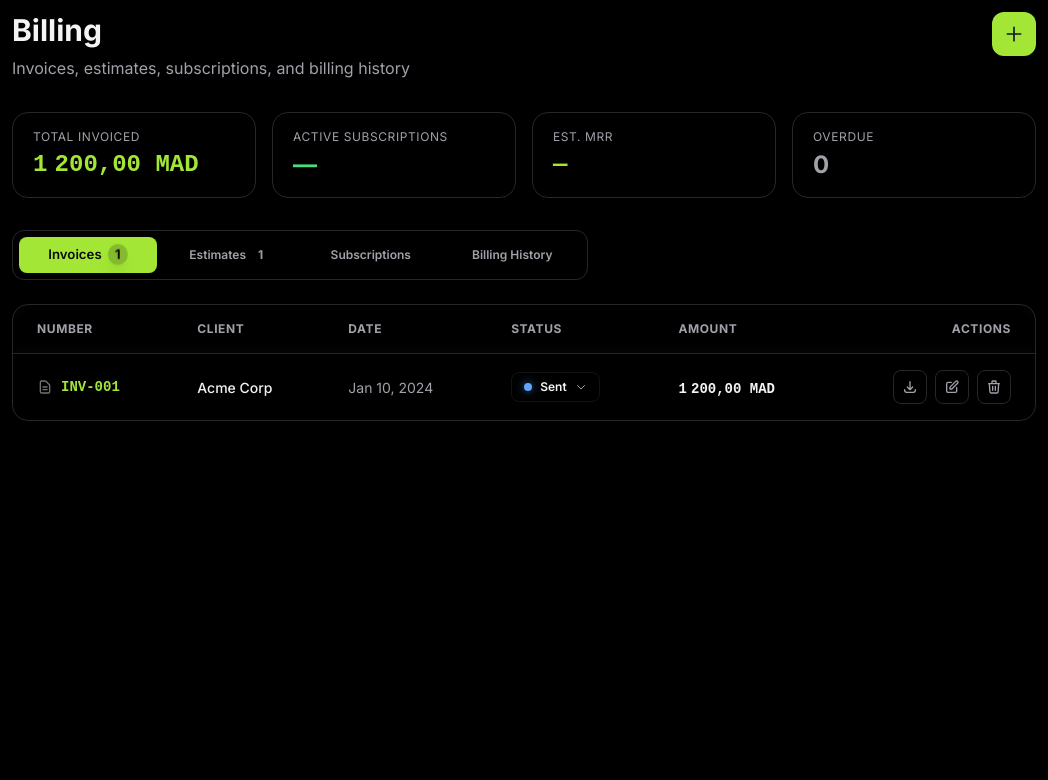
Test case: BillingPage › switches to subscriptions tab and shows Paymenter banner when API unreachable
This screenshot has width=1048, height=780.
Step 1. Click the button "Subscriptions" → click(371, 255), box [302, 237, 440, 273]
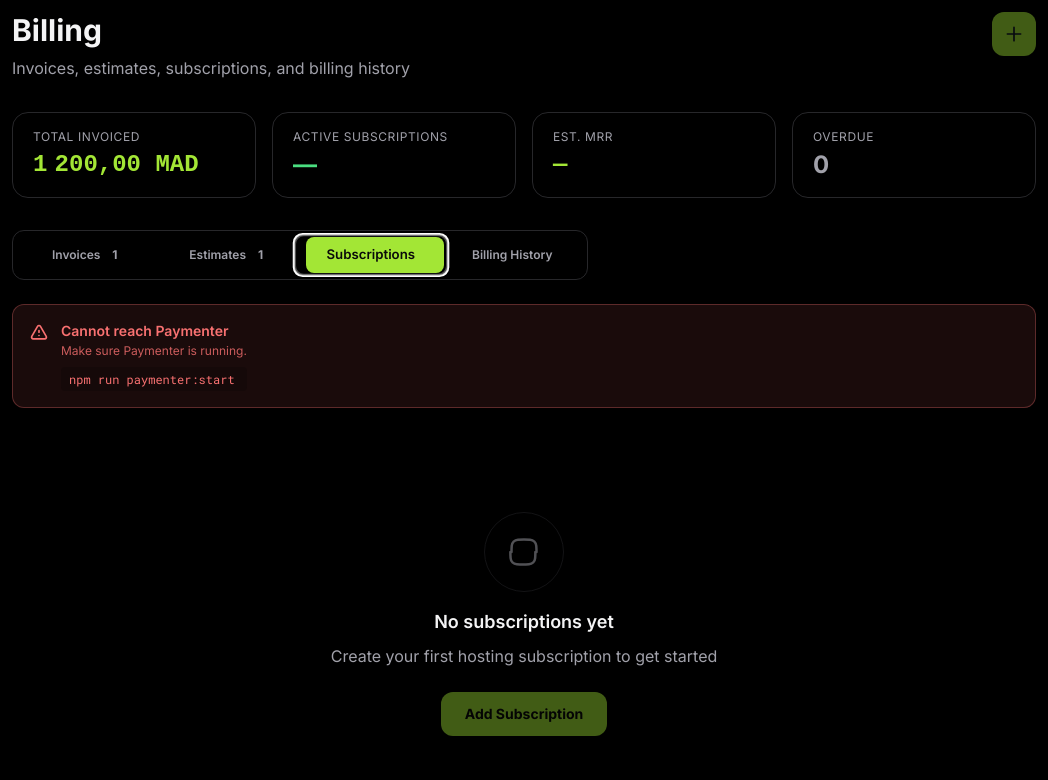
Check: the text "Cannot reach Paymenter" is shown, box [61, 321, 247, 341]
